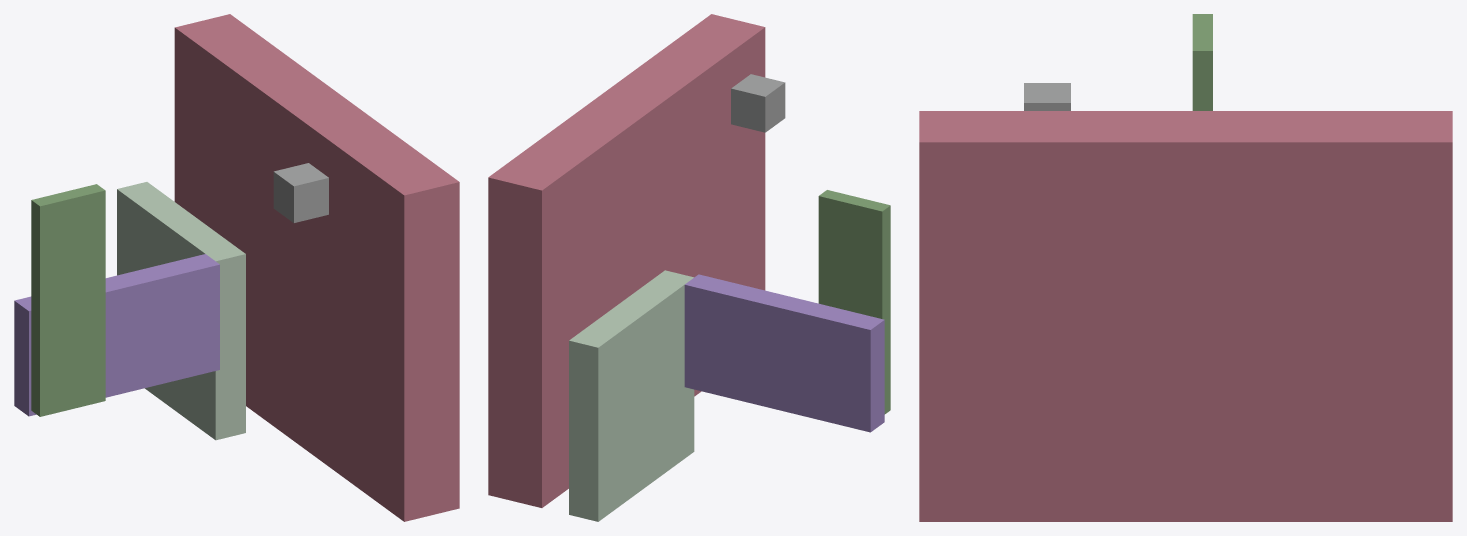
Rendered from 199522_pred.glb.
3 views of the same model, side by side, from view 1: azimuth 30°, elevation 25°; view 2: azimuth 150°, elevation 25°; view 3: azimuth 270°, elevation 25° (orthographic). The views are drawn at different scales.
Visible parts, largest first — view 1: world; view 2: world; view 3: world.
Boxes of the visible parts, bbox=[...] form: world: bbox=[14, 14, 459, 521]; world: bbox=[488, 14, 890, 521]; world: bbox=[919, 14, 1452, 521].
Size of the model in its own units: 6.05 by 6.2 by 7.9.
